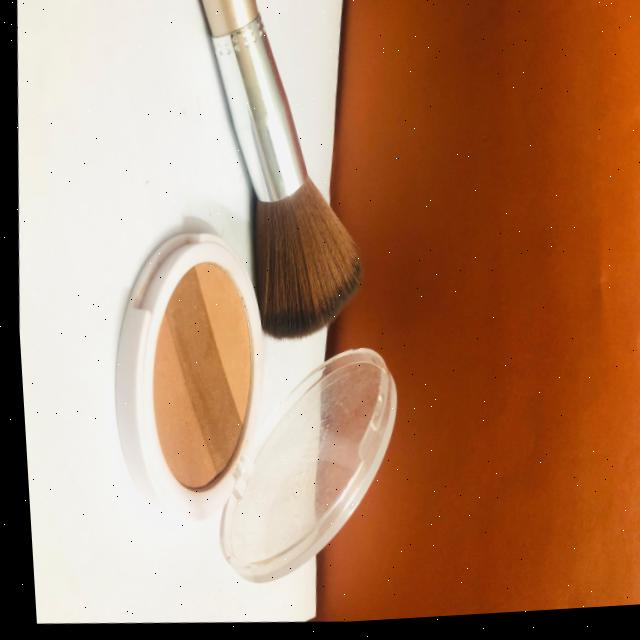blush: (110, 240, 281, 526)
brush: (228, 0, 396, 351)
